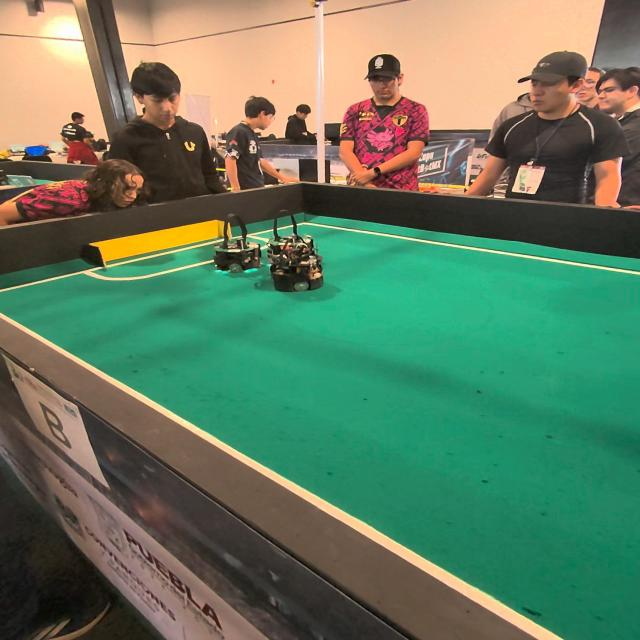Robot: (263, 208, 328, 298), (208, 217, 258, 277)
